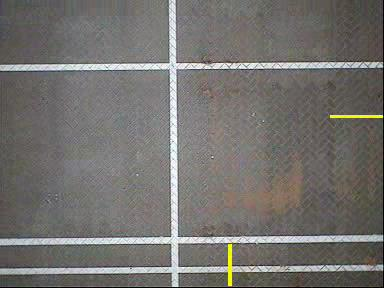groundmarker_2: (95, 203, 170, 262), (104, 64, 178, 123)
